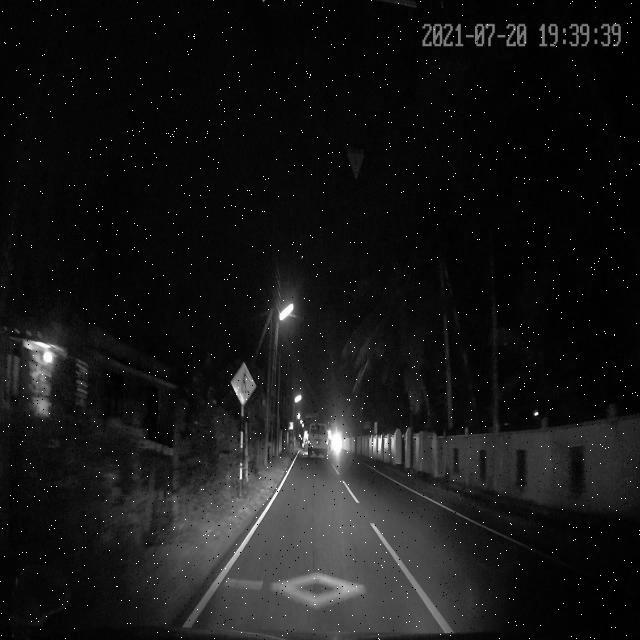diamond: (186, 555, 449, 619)
